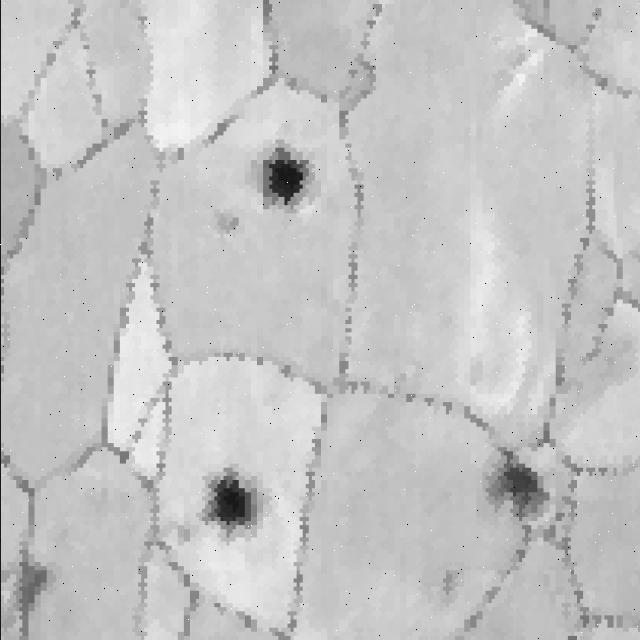good_void: (197, 450, 264, 546), (260, 125, 328, 218), (485, 446, 545, 523), (12, 529, 54, 614), (213, 203, 249, 248), (436, 560, 467, 604), (169, 517, 198, 557)
